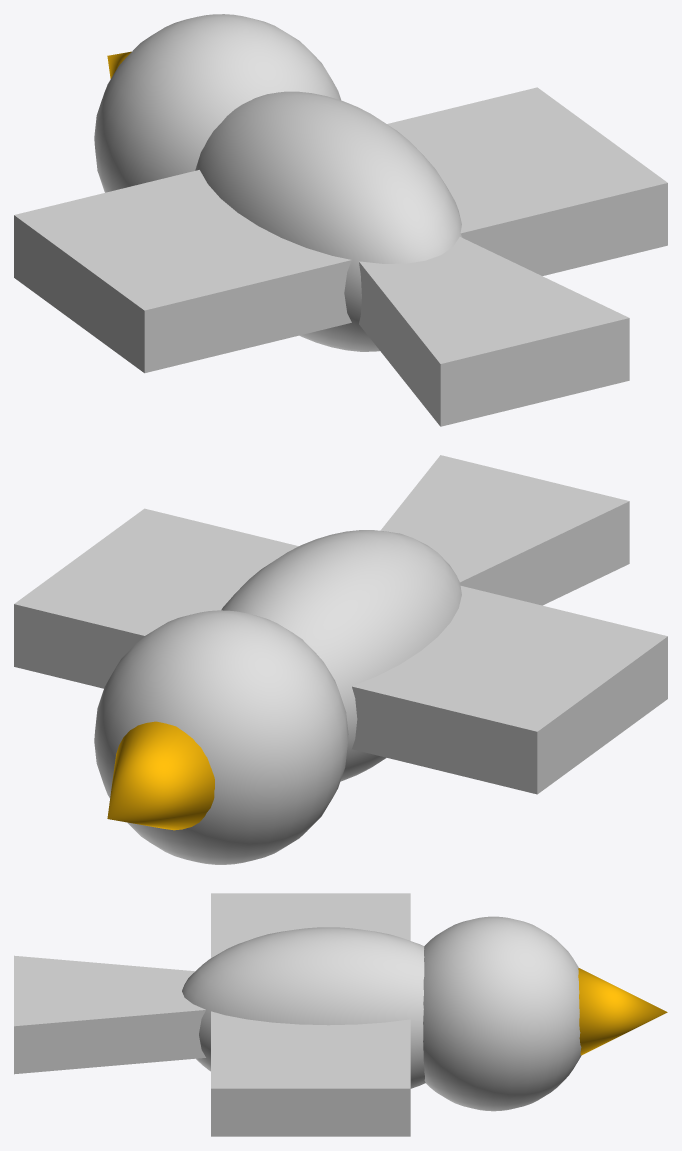
The model's file is Bird.fbx.
3 views of the same model, one above another, from view 1: azimuth 30°, elevation 25°; view 2: azimuth 150°, elevation 25°; view 3: azimuth 270°, elevation 25° (orthographic). The views are drawn at different scales.
Visible parts, largest first — view 1: Cube, Sphere.001, Cube.001, Sphere; view 2: Cube, Sphere, Sphere.001, Cube.001, Cone; view 3: Cube, Sphere, Sphere.001, Cube.001, Cone.
Part boxes in pixels (left/top/right/bottom): Cube: left=14, top=87, right=667, bottom=373; Sphere.001: left=195, top=91, right=462, bottom=351; Cube.001: left=359, top=237, right=629, bottom=426; Sphere: left=94, top=14, right=340, bottom=192; Cube: left=14, top=508, right=667, bottom=794; Sphere: left=94, top=610, right=348, bottom=864; Sphere.001: left=221, top=530, right=461, bottom=781; Cube.001: left=380, top=455, right=629, bottom=605; Cone: left=107, top=721, right=214, bottom=830; Cube: left=211, top=893, right=410, bottom=1136; Sphere: left=423, top=916, right=581, bottom=1111; Sphere.001: left=182, top=927, right=425, bottom=1088; Cube.001: left=14, top=955, right=205, bottom=1074; Cone: left=578, top=968, right=667, bottom=1055.
Size of the model in its own units: 143 by 60.46 by 203.
